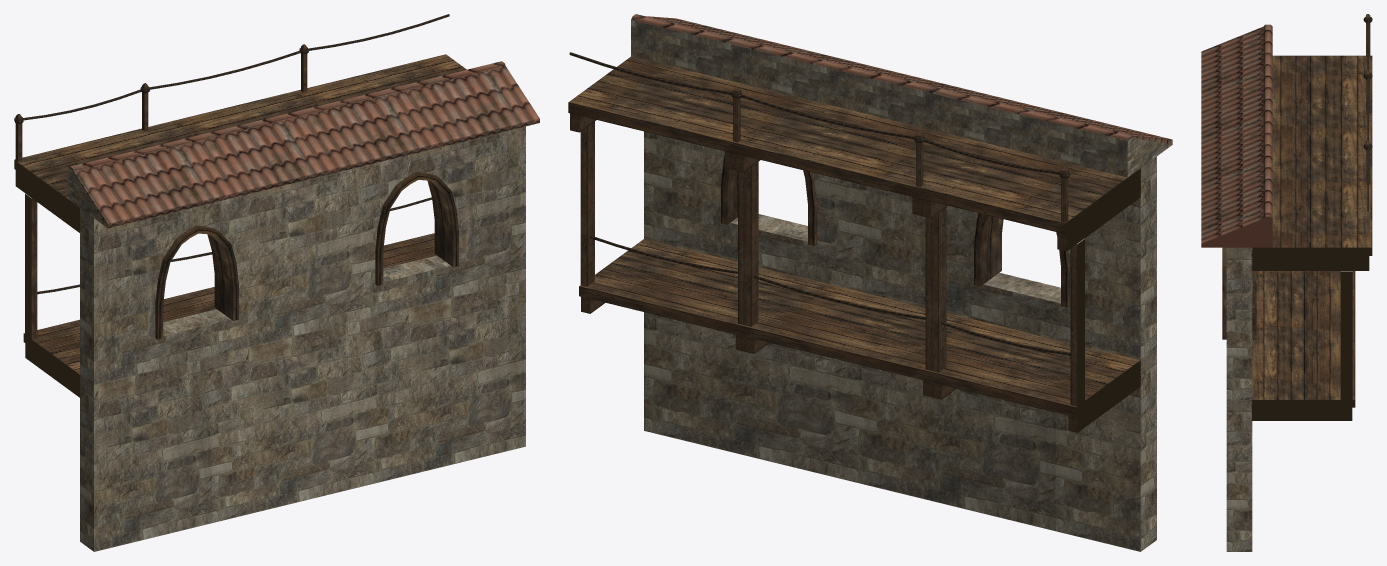
Rendered from FortWallL2.dae.
3 renders of one model, left to right at view 1: azimuth 30°, elevation 25°; view 2: azimuth 150°, elevation 25°; view 3: azimuth 270°, elevation 25°, orthographic. The views are drawn at different scales.
Parts seen in each view (by area): view 1: fort_wood_sep70-0; view 2: fort_wood_sep70-0; view 3: fort_wood_sep70-0.
Boxes of the visible parts, x1,y1,x2,y2 form: fort_wood_sep70-0: (14, 14, 539, 551); fort_wood_sep70-0: (568, 14, 1172, 551); fort_wood_sep70-0: (1201, 14, 1372, 551).
Bounding box in the file's own units: 10.67 × 8.92 × 3.99.
